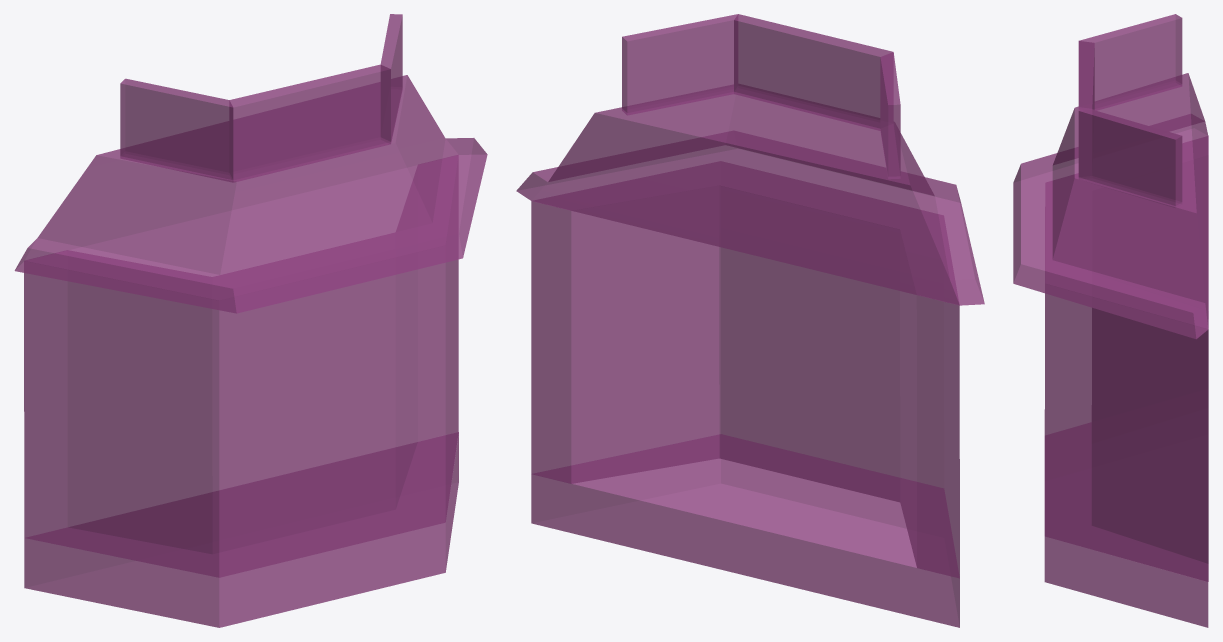
Rendered from SM_Bld_Alcove_01_Collision.fbx.
The picture shows the model from 3 angles, left to right: view 1: azimuth 30°, elevation 25°; view 2: azimuth 150°, elevation 25°; view 3: azimuth 270°, elevation 25°; orthographic projection. The views are drawn at different scales.
Visible parts, largest first — view 1: SM_Bld_Alcove_01_Collision; view 2: SM_Bld_Alcove_01_Collision; view 3: SM_Bld_Alcove_01_Collision.
Boxes of the visible parts, x1,y1,x2,y2 form: SM_Bld_Alcove_01_Collision: (14, 14, 487, 627); SM_Bld_Alcove_01_Collision: (516, 14, 984, 627); SM_Bld_Alcove_01_Collision: (1013, 14, 1208, 627).
Bounding box in the file's own units: 398 × 400 × 156.
